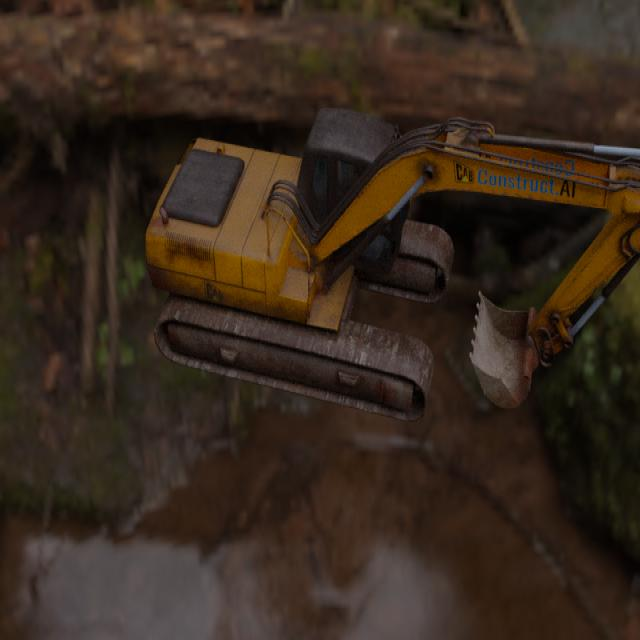excavator: (145, 107, 640, 421)
